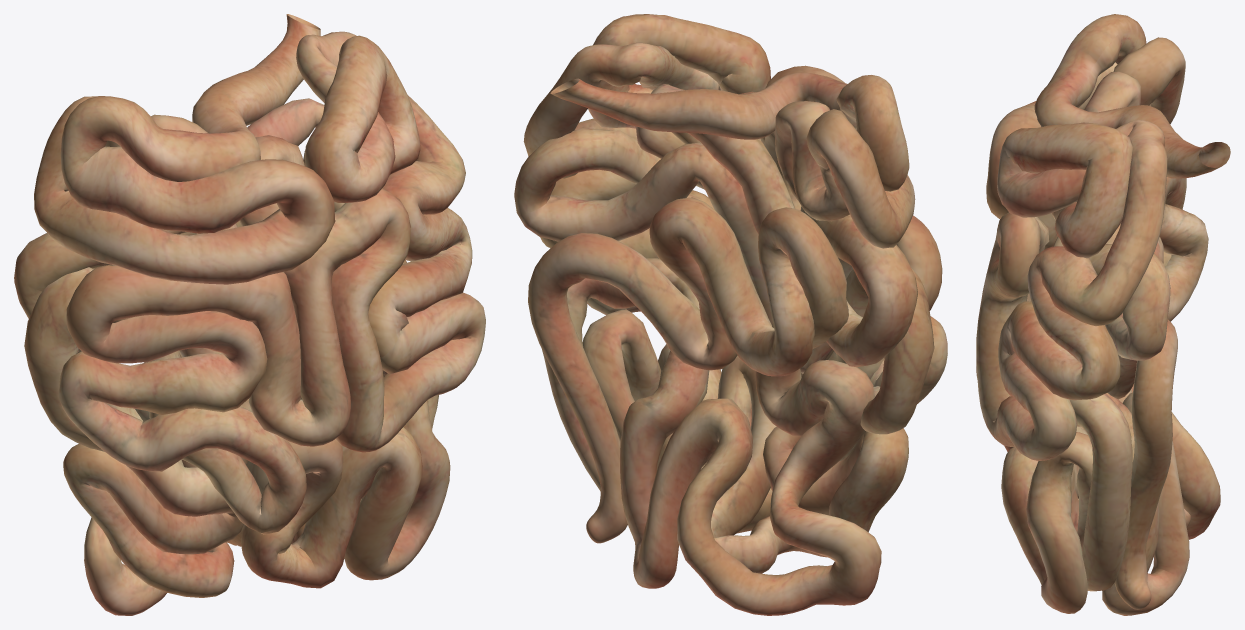
Rendered from intestino_delgado.fbx.
The picture shows the model from 3 angles, left to right: view 1: azimuth 30°, elevation 25°; view 2: azimuth 150°, elevation 25°; view 3: azimuth 270°, elevation 25°; orthographic projection. The views are drawn at different scales.
Visible parts, largest first — view 1: Intestino Delgado; view 2: Intestino Delgado; view 3: Intestino Delgado.
Boxes of the visible parts, x1,y1,x2,y2 form: Intestino Delgado: [14, 14, 485, 615]; Intestino Delgado: [514, 14, 947, 615]; Intestino Delgado: [976, 14, 1230, 615].
Bounding box in the file's own units: 183 × 227 × 104.
